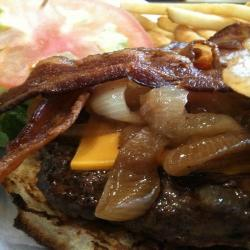burger: (19, 51, 250, 249)
fries: (119, 1, 250, 52)
